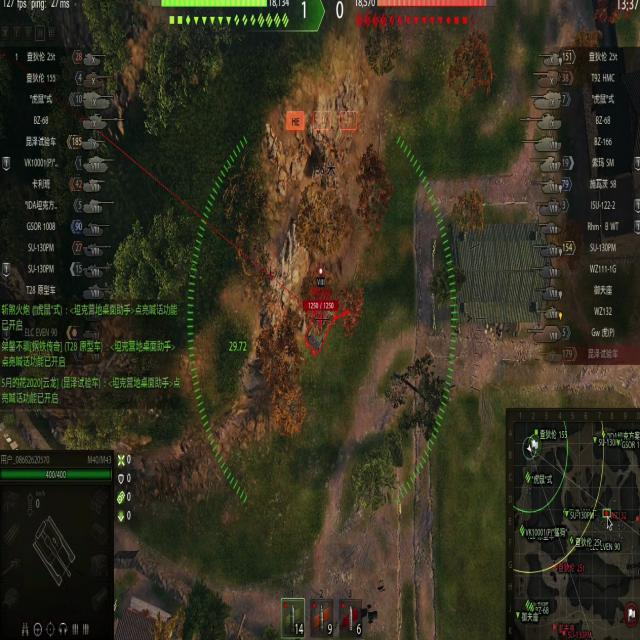tank: (295, 290, 348, 358)
